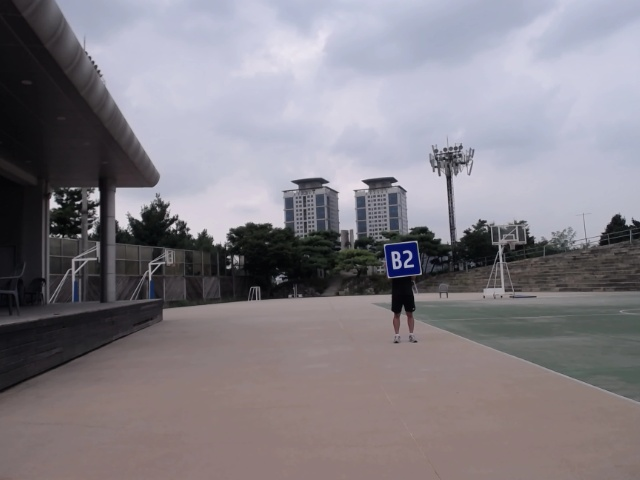delivery_b2: (382, 240, 423, 279)
